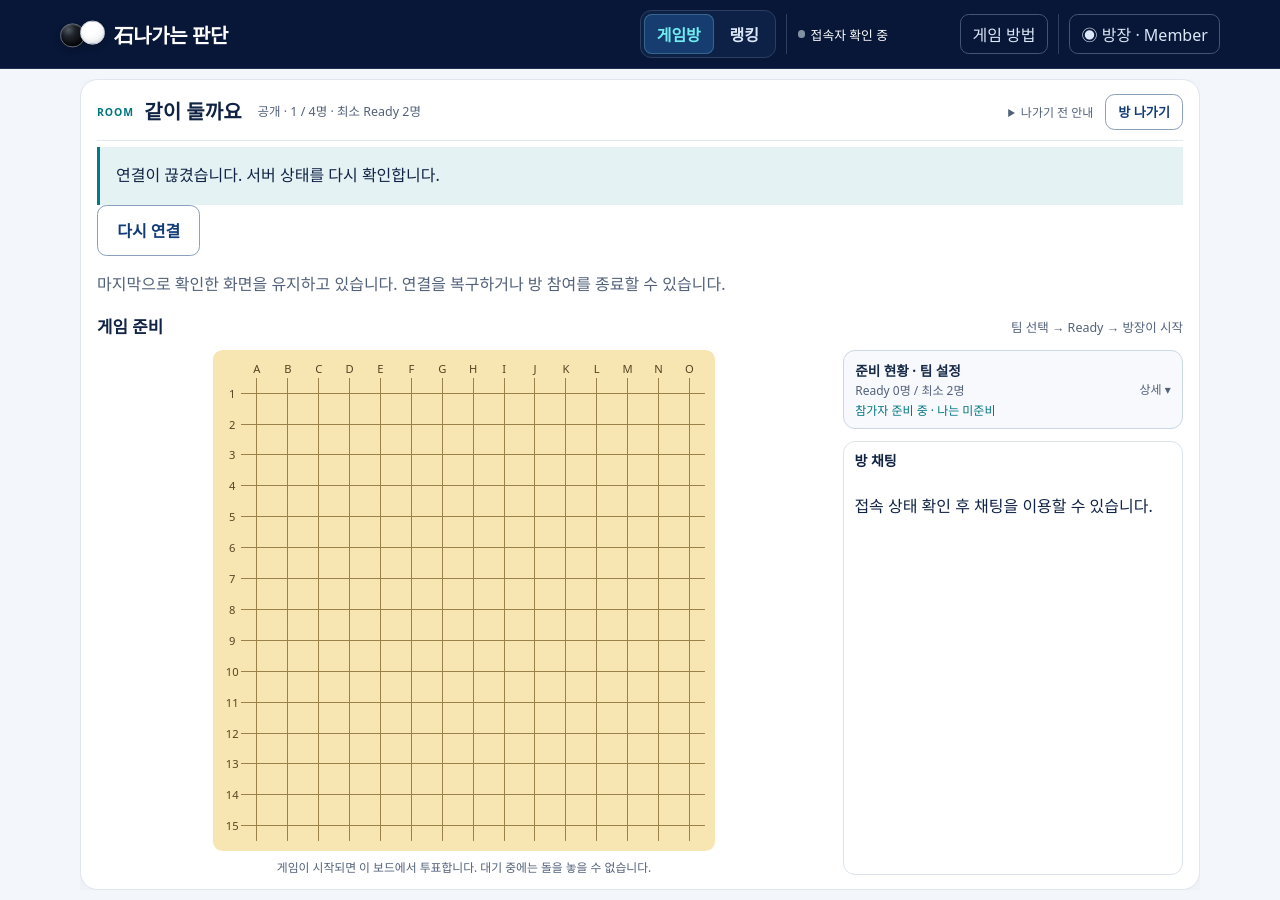
Test: room HTTP and receive-only connection integration › allows an explicit leave from a disconnected snapshot and retries only a definite stale rejection
This screenshot has width=1280, height=900.
Check: the heading "같이 둘까요" is shown, box [144,99,242,125]
Click the button "방 나가기" at (1144, 112), box [1105,94,1183,130]
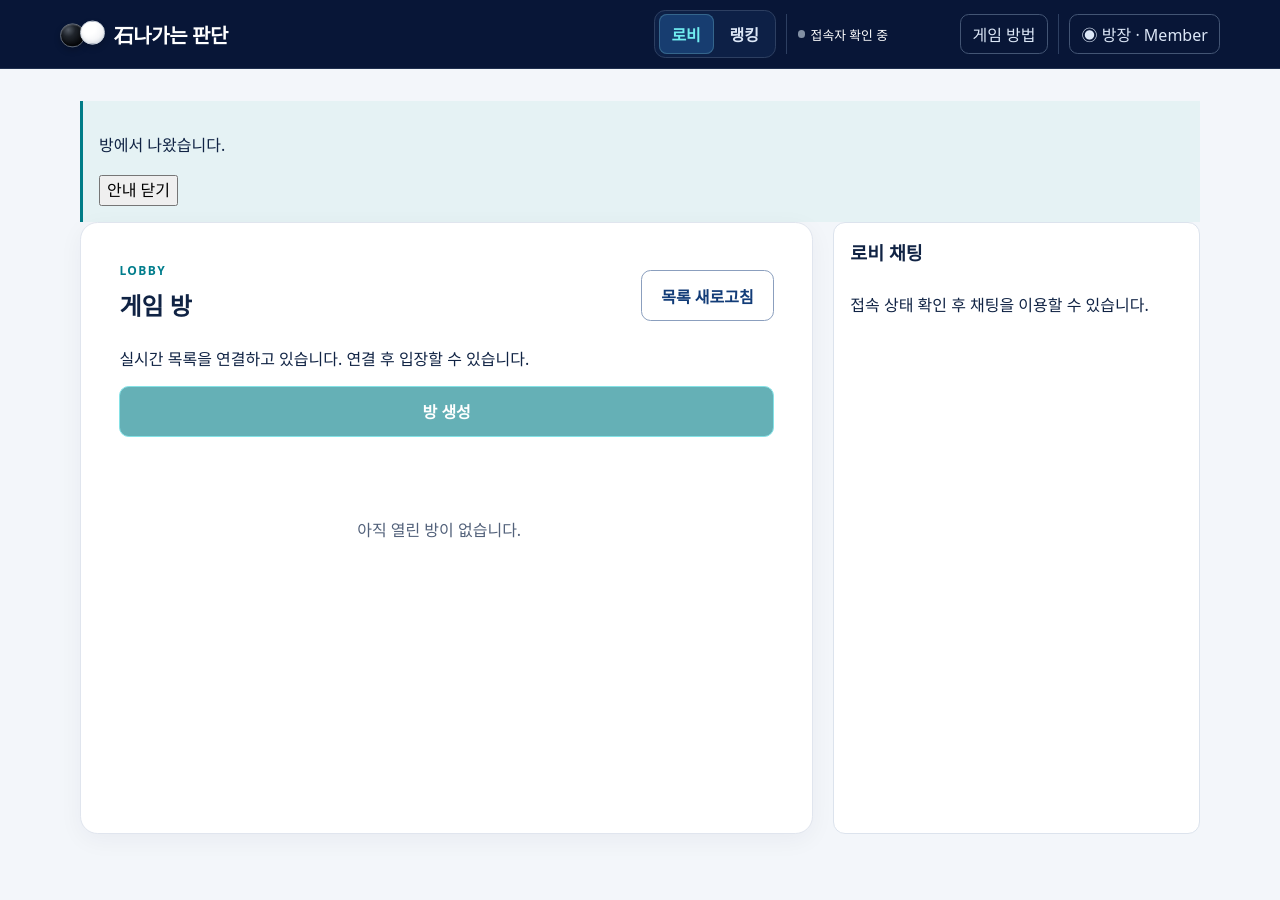
Check: the heading "게임 방" is shown, box [119,287,192,322]
